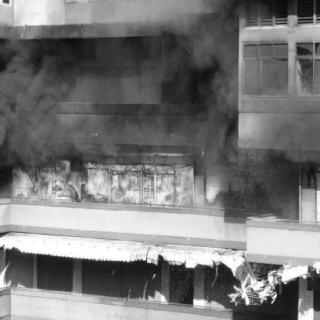Fire: (8, 148, 200, 210)
Smoke: (205, 26, 239, 114)
